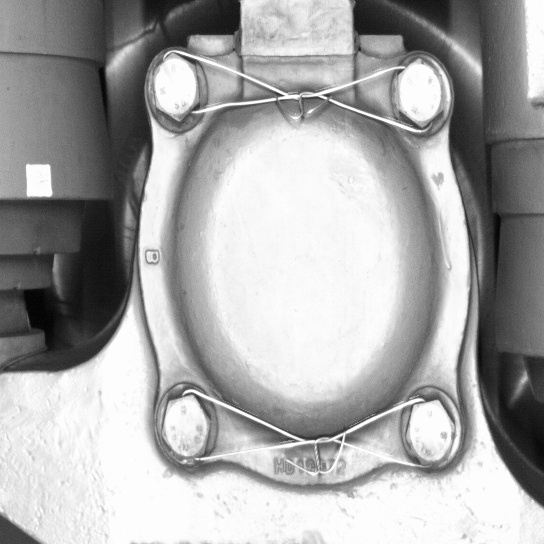IronWire: (152, 383, 465, 478), (142, 46, 451, 133)
Screw: (396, 383, 464, 478), (152, 383, 218, 470), (144, 47, 207, 133), (386, 54, 453, 134)
